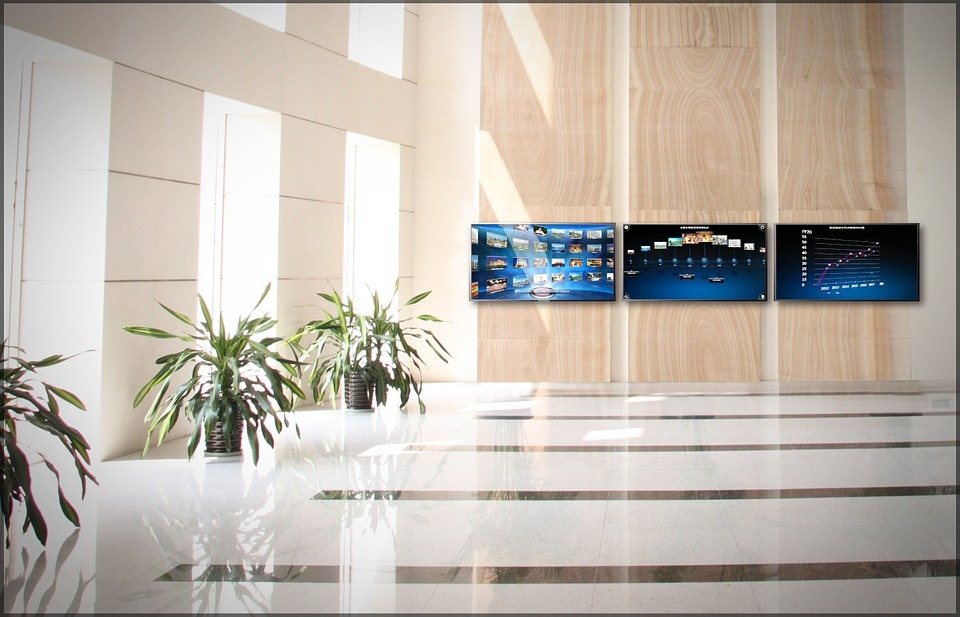pottedplant: (122, 294, 304, 463), (285, 279, 434, 416)
